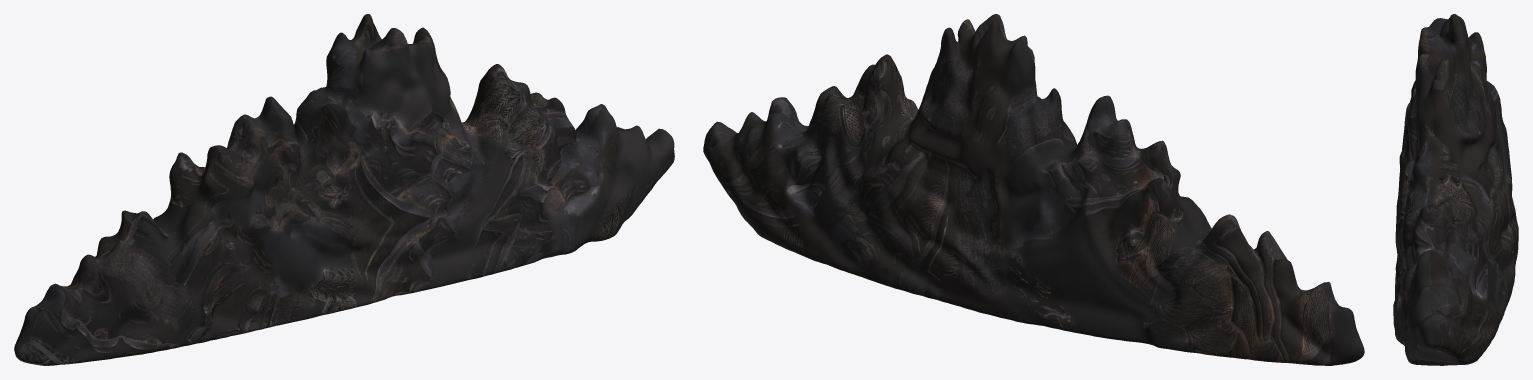
Rendered from bijia.obj.
The picture shows the model from 3 angles, left to right: view 1: azimuth 30°, elevation 25°; view 2: azimuth 150°, elevation 25°; view 3: azimuth 270°, elevation 25°; orthographic projection. The views are drawn at different scales.
Parts seen in each view (by area): view 1: 4; view 2: 4; view 3: 4.
Boxes of the visible parts, box(x1,y1,x2,y2) form: 4: box(14, 14, 674, 365); 4: box(703, 14, 1364, 365); 4: box(1393, 14, 1518, 365).
Size of the model in its own units: 0.211 by 0.0808 by 0.037.
Materials: 4 (4 with a texture image).
